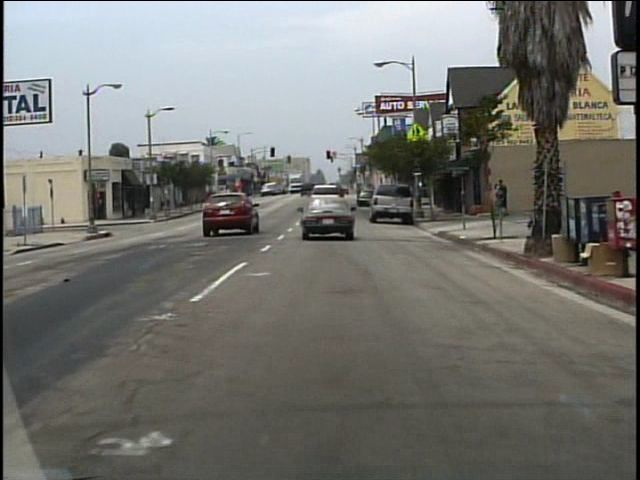person: (499, 178, 510, 216), (490, 183, 501, 216)
